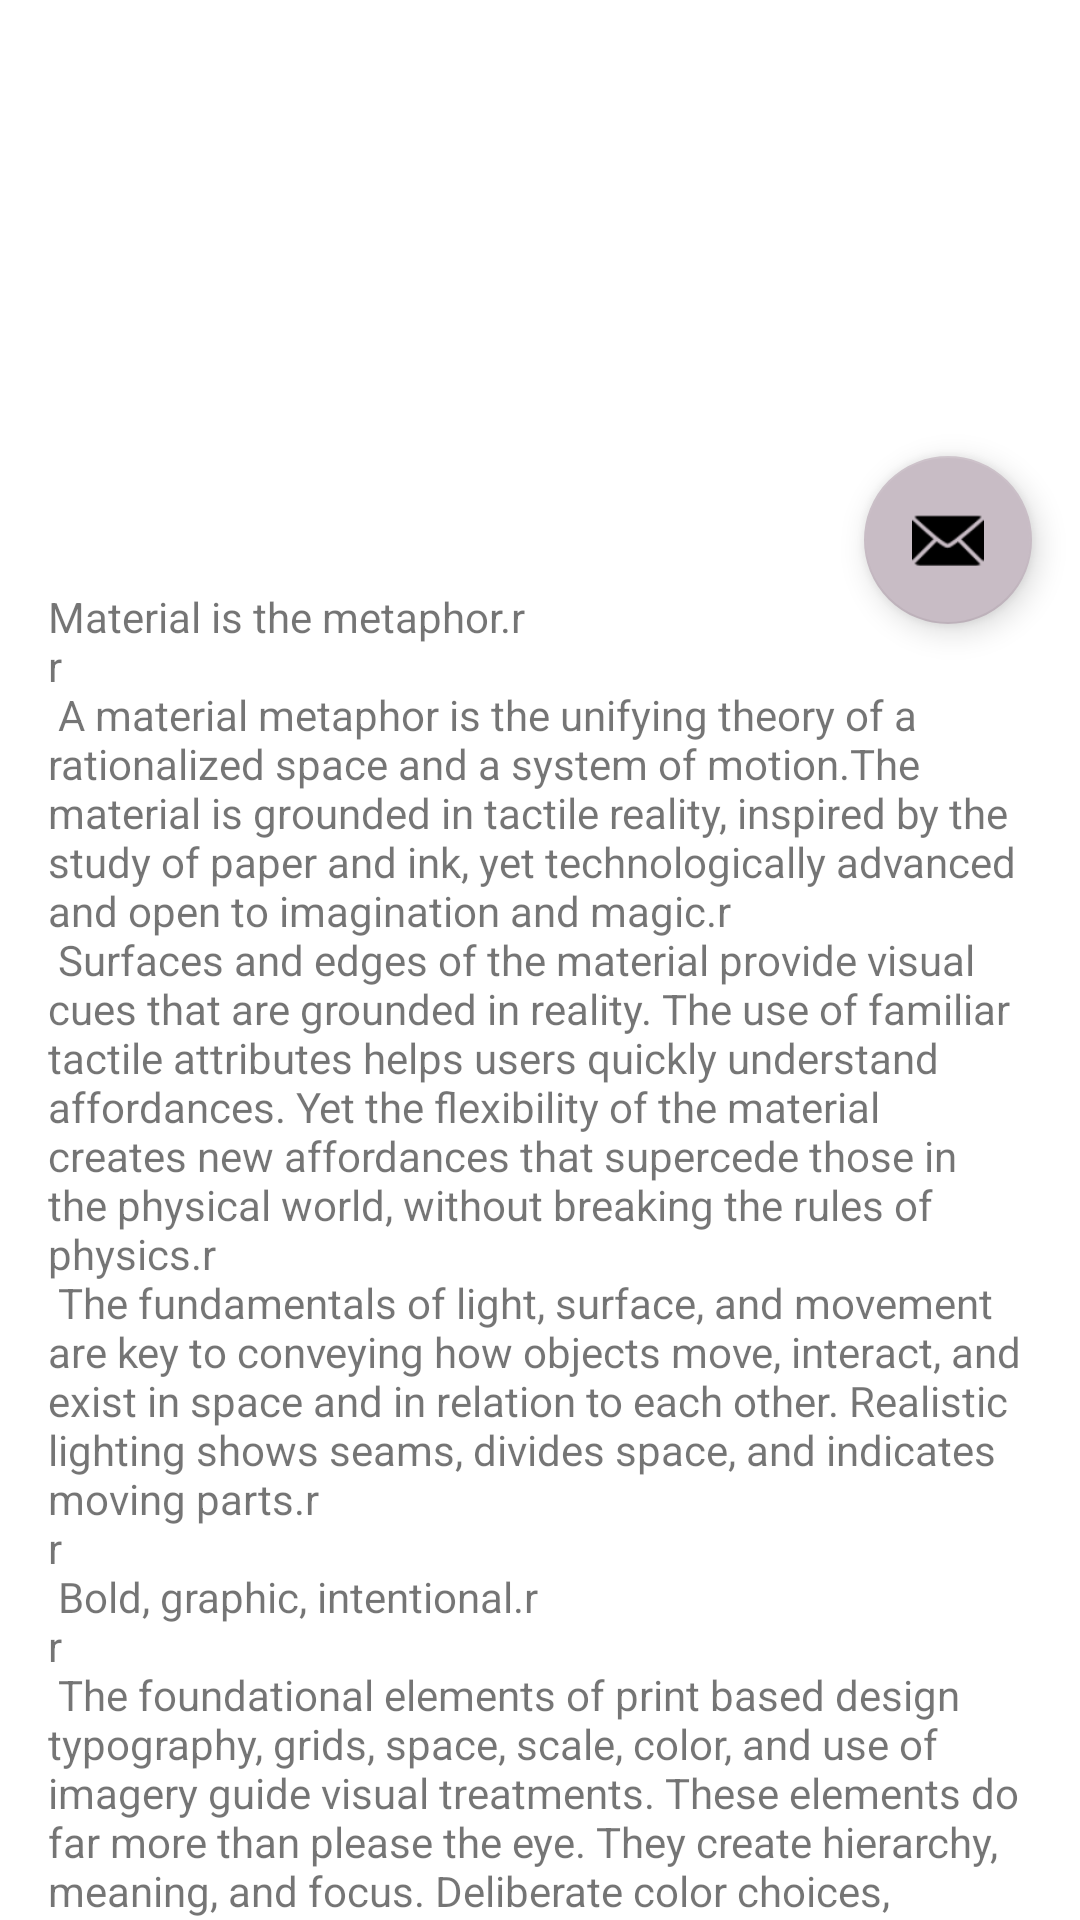

Icon click points for this 1080px×1920px phone screenshot, format (x=x, y=y):
email: (x=948, y=540)
